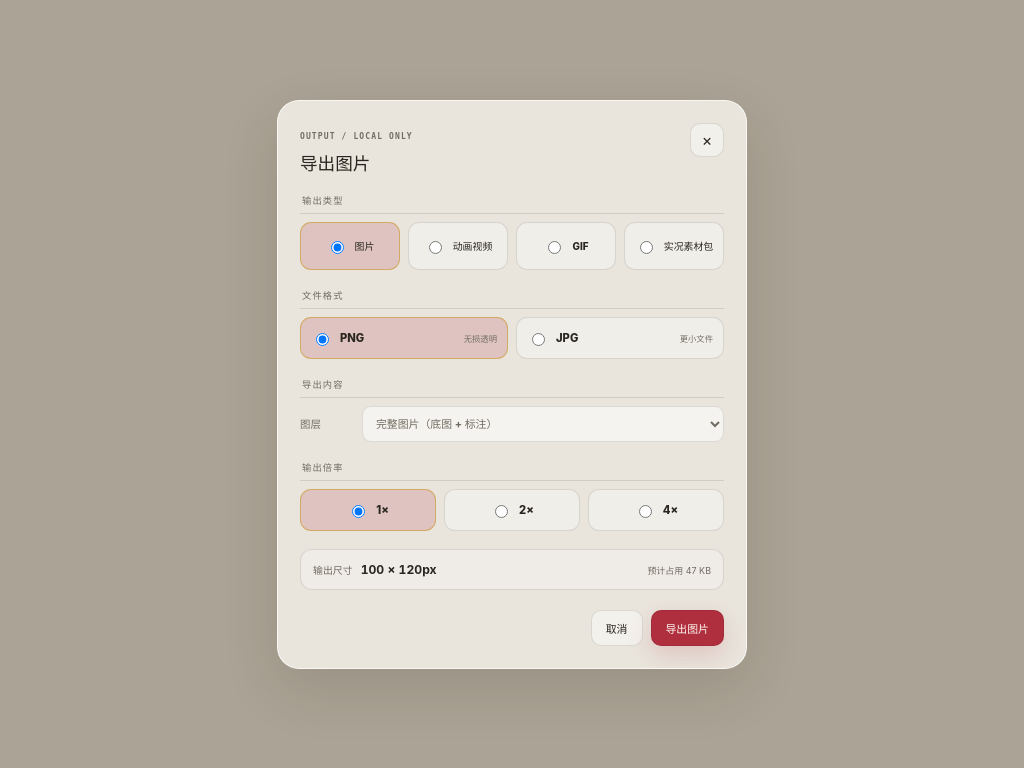
Test case: ExportDialog export lifecycle › lets the user choose an image, video, GIF, or live-photo materials
Click the radio button labelled "动画视频": (435,247) x1=429 y1=240 x2=442 y2=254
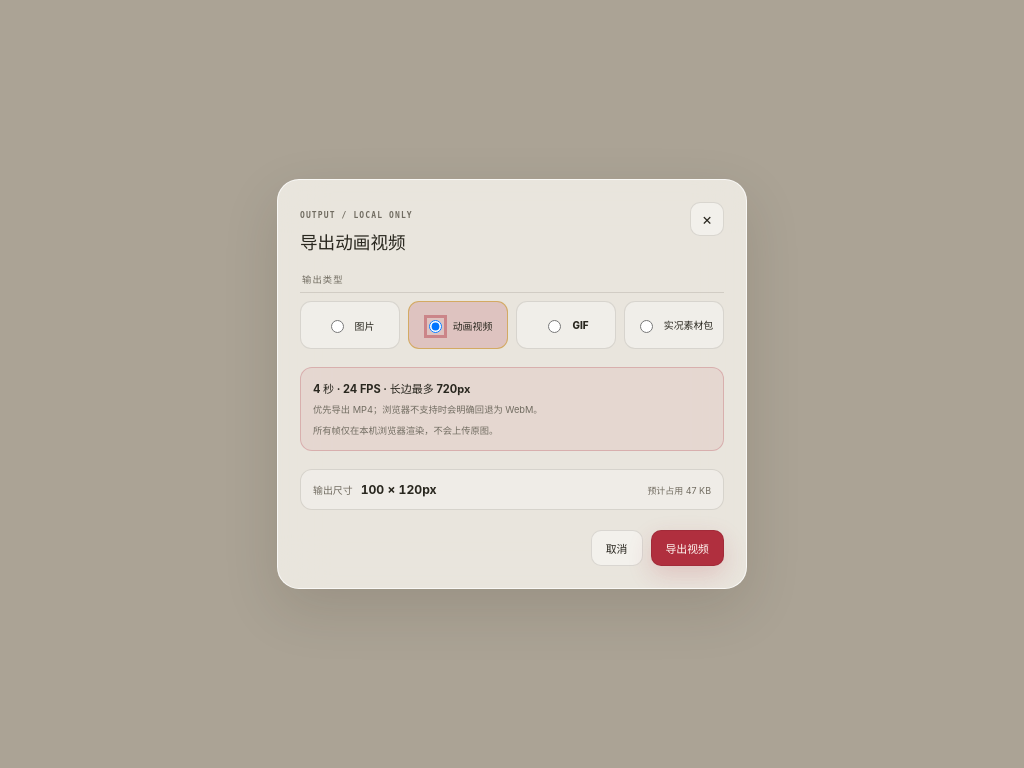
Check: the button "导出视频" is enabled, box x1=650 y1=530 x2=724 y2=566
Check: the text "4 秒 · 24 FPS · 长边最多 720px" is shown, box x1=313 y1=382 x2=470 y2=396
Click the radio button labelled "GIF": (555,327) x1=548 y1=320 x2=562 y2=333
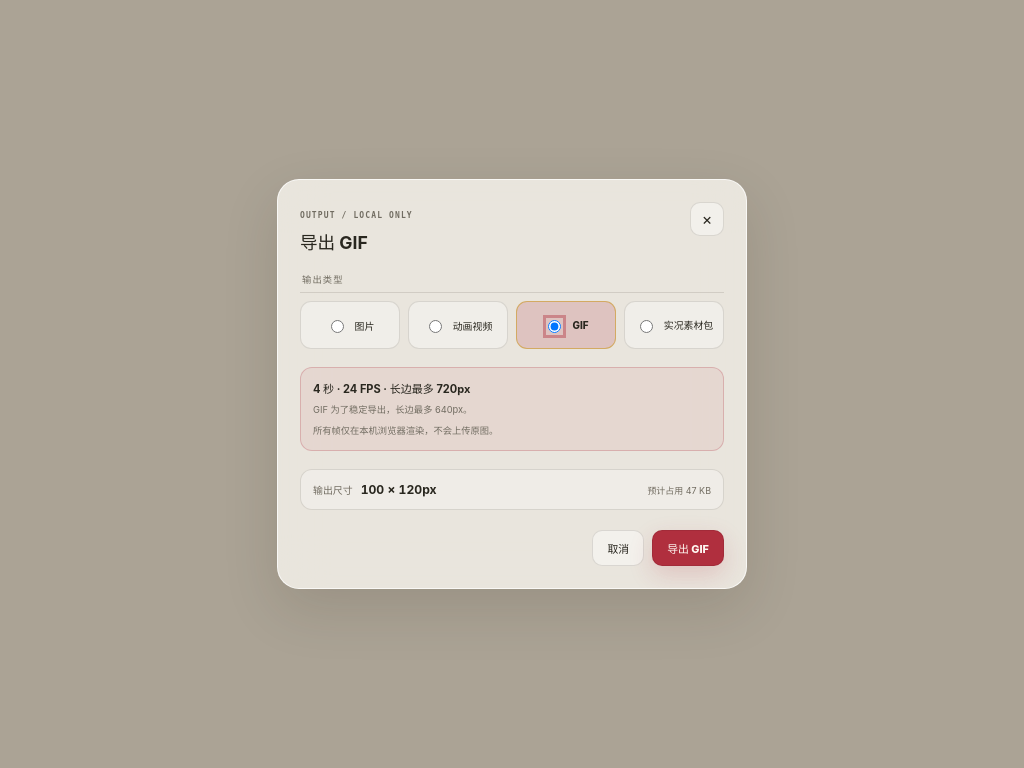
Check: the button "导出 GIF" is enabled, box x1=652 y1=530 x2=724 y2=566
Click the radio button labelled "实况素材包": (646,327) x1=640 y1=320 x2=653 y2=333
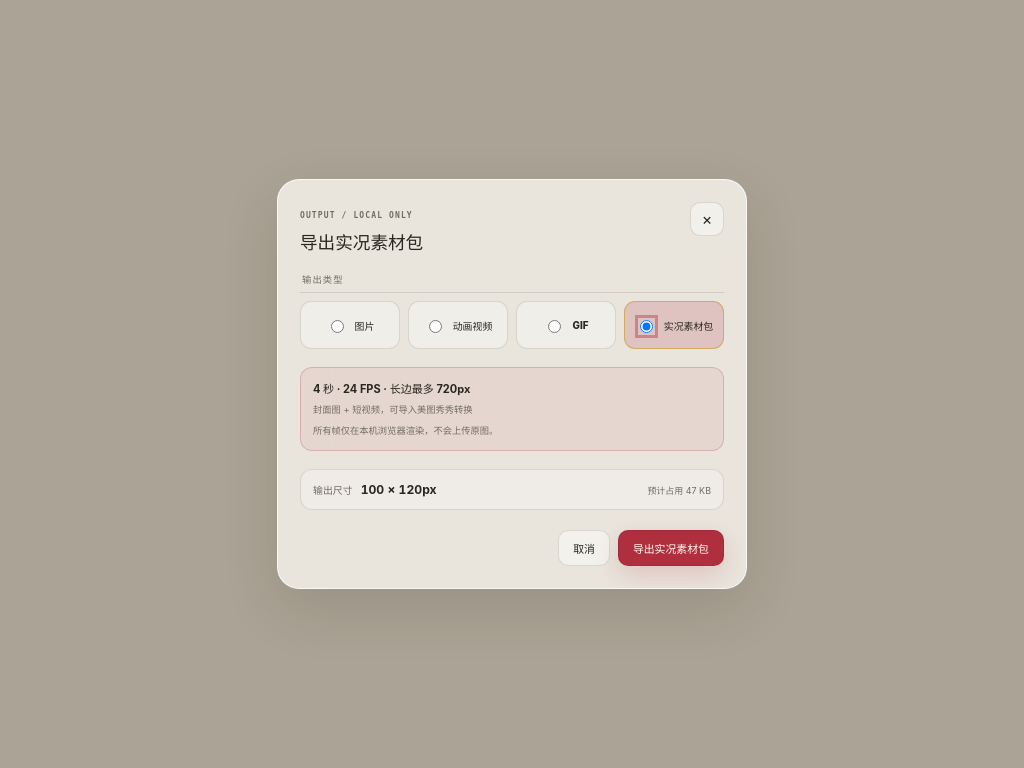
Check: the text "封面图 + 短视频，可导入美图秀秀转换" is shown, box x1=313 y1=404 x2=473 y2=415
